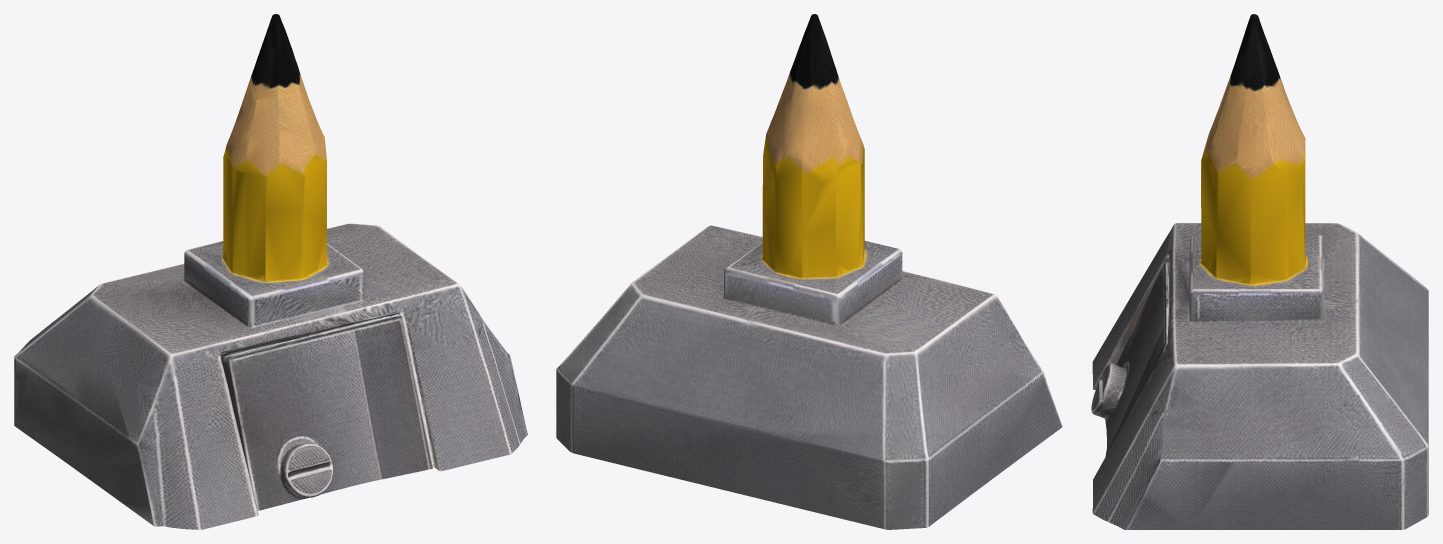
The model's file is 8-topper.fbx.
3 views of the same model, side by side, from view 1: azimuth 30°, elevation 25°; view 2: azimuth 150°, elevation 25°; view 3: azimuth 270°, elevation 25° (orthographic). The views are drawn at different scales.
Parts seen in each view (by area): view 1: topper; view 2: topper; view 3: topper.
Boxes of the visible parts, x1,y1,x2,y2 form: topper: [14, 14, 527, 529]; topper: [556, 14, 1062, 529]; topper: [1091, 14, 1428, 529].
Size of the model in its own units: 5866 by 6243 by 4515.
Materials: 1 (1 with a texture image).
